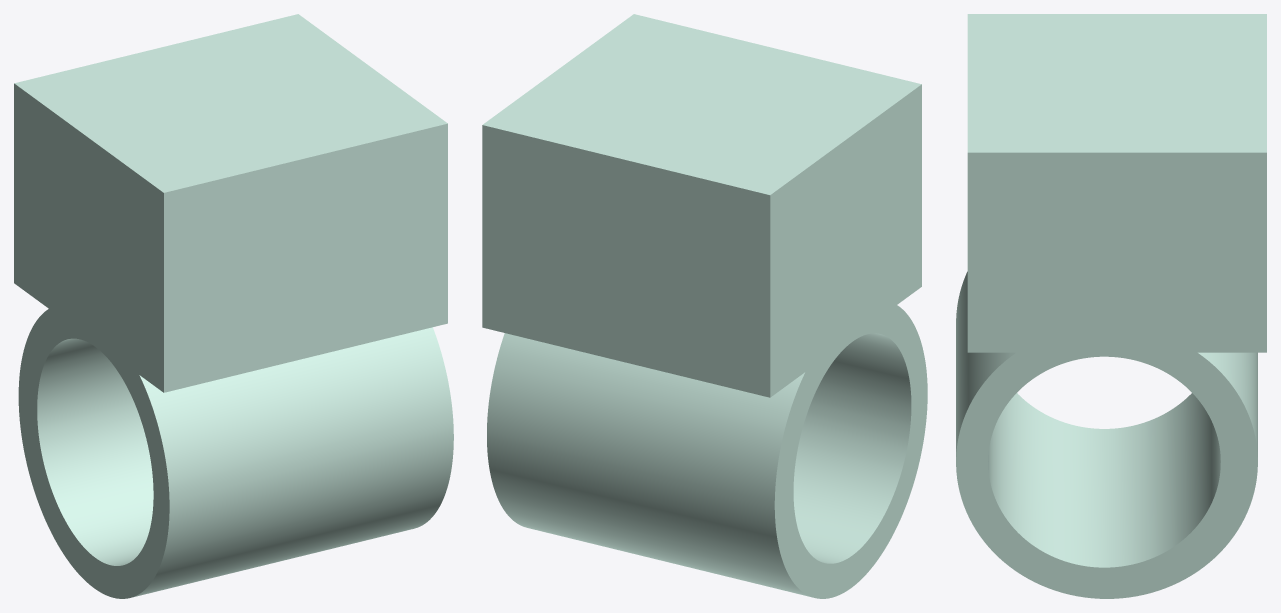
3 renders of one model, left to right at view 1: azimuth 30°, elevation 25°; view 2: azimuth 150°, elevation 25°; view 3: azimuth 270°, elevation 25°, orthographic.
Visible parts, largest first — view 1: Renderer Node; view 2: Renderer Node; view 3: Renderer Node.
Part boxes in pixels (left/top/right/bottom): Renderer Node: left=14, top=14, right=453, bottom=598; Renderer Node: left=482, top=14, right=927, bottom=598; Renderer Node: left=956, top=14, right=1266, bottom=598.
Size of the model in its own units: 0.4453 by 0.6683 by 0.4218.
